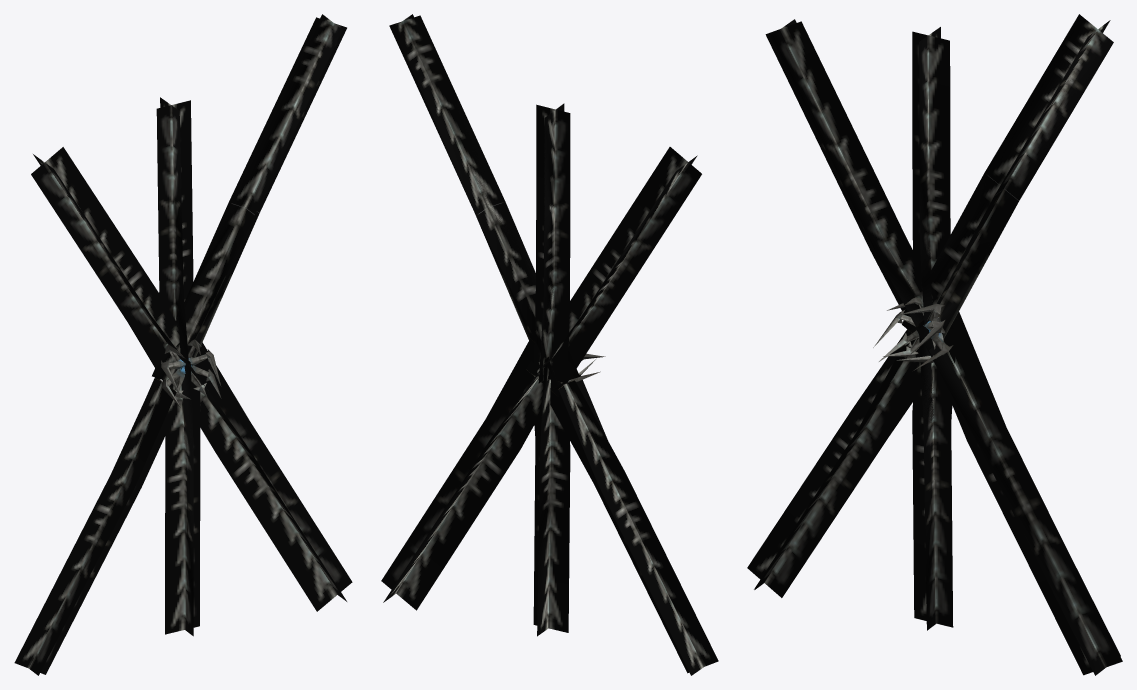
File: DN_tianqi_a.FBX
3 renders of one model, left to right at view 1: azimuth 30°, elevation 25°; view 2: azimuth 150°, elevation 25°; view 3: azimuth 330°, elevation 25°, orthographic. The views are drawn at different scales.
Visible parts, largest first — view 1: DN_tianqi_a; view 2: DN_tianqi_a; view 3: DN_tianqi_a.
Part boxes in pixels (x1,y1,x2,y2): DN_tianqi_a: (14, 14, 352, 675); DN_tianqi_a: (381, 14, 718, 675); DN_tianqi_a: (747, 14, 1122, 675).
Bounding box in the file's own units: 1978 × 3331 × 464.
